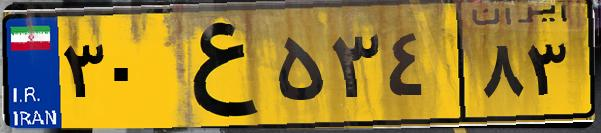0: (110, 28, 158, 98)
3: (330, 28, 385, 110), (57, 26, 110, 100), (525, 38, 570, 115)
4: (385, 28, 445, 110)
5: (270, 28, 330, 110)
8: (475, 38, 525, 113)
ع: (158, 12, 270, 120)
